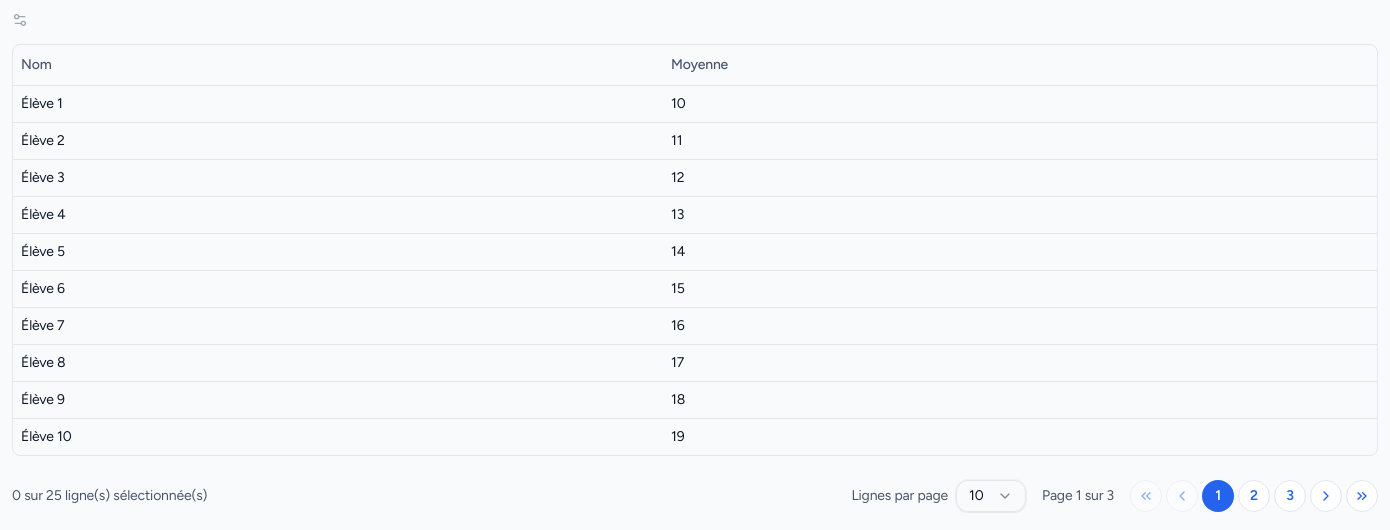
Test case: DataTable › pagine avec les boutons et les numéros de page (petit nombre de pages)
Expected: the text "Élève 1" is shown, [13,85,663,122]
Expected: the text "Page 1 sur 3" is shown, [1042,486,1114,506]
Click the button named "Page suivante". click: (1326, 496)
box: [1310,480,1342,512]
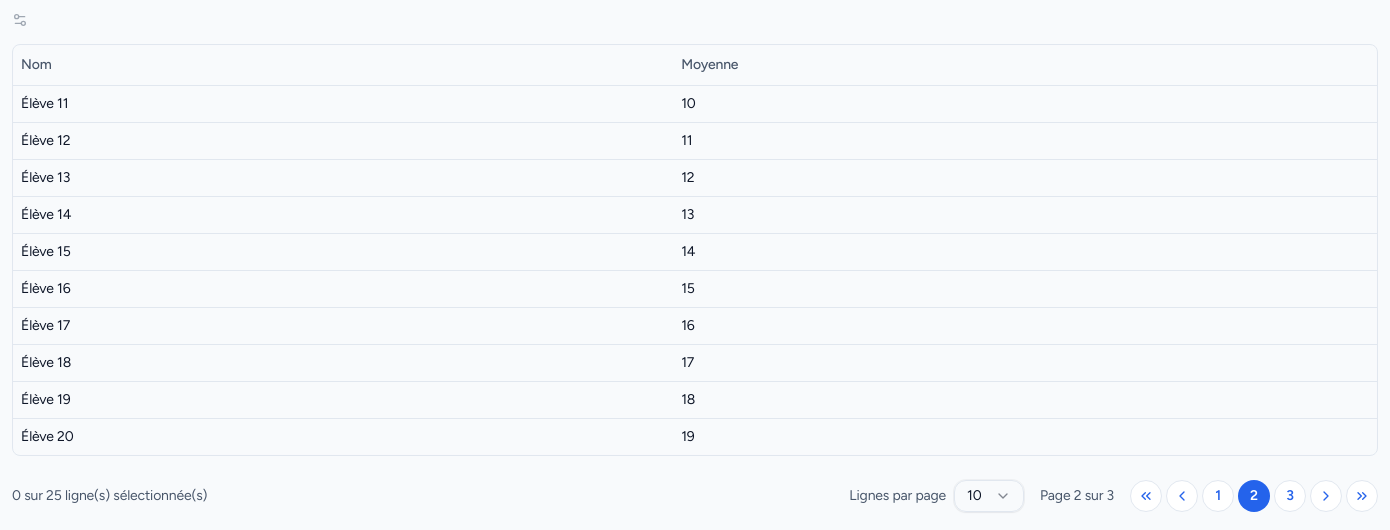
Result: the text "Page 2 sur 3" is shown at [1040,486,1114,506]
Result: the text "Élève 11" is shown at [13,85,673,122]
Click the button named "Dernière page". click: (1362, 496)
box: [1346,480,1378,512]
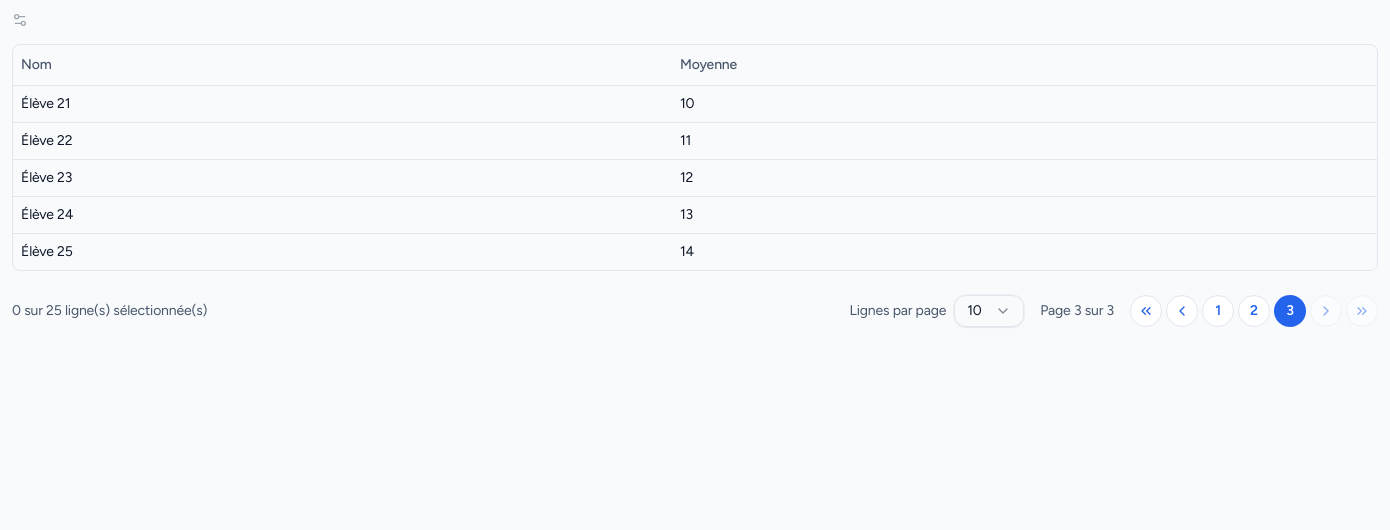
Result: the text "Page 3 sur 3" is shown at [1040,300,1114,320]
Result: the button named "Page suivante" is disabled at [1310,294,1342,326]
Click the button named "Page précédente". click: (1182, 310)
box: [1166,294,1198,326]
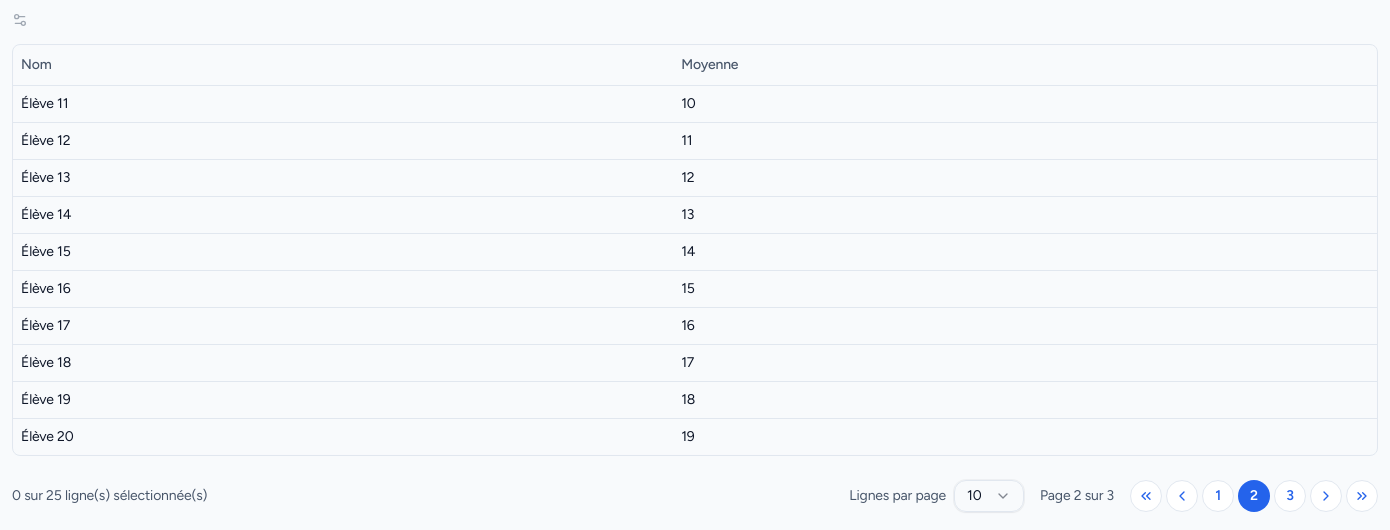
Result: the text "Page 2 sur 3" is shown at [1040,486,1114,506]
Click the button named "Première page". click: (1146, 496)
box: [1130,480,1162,512]
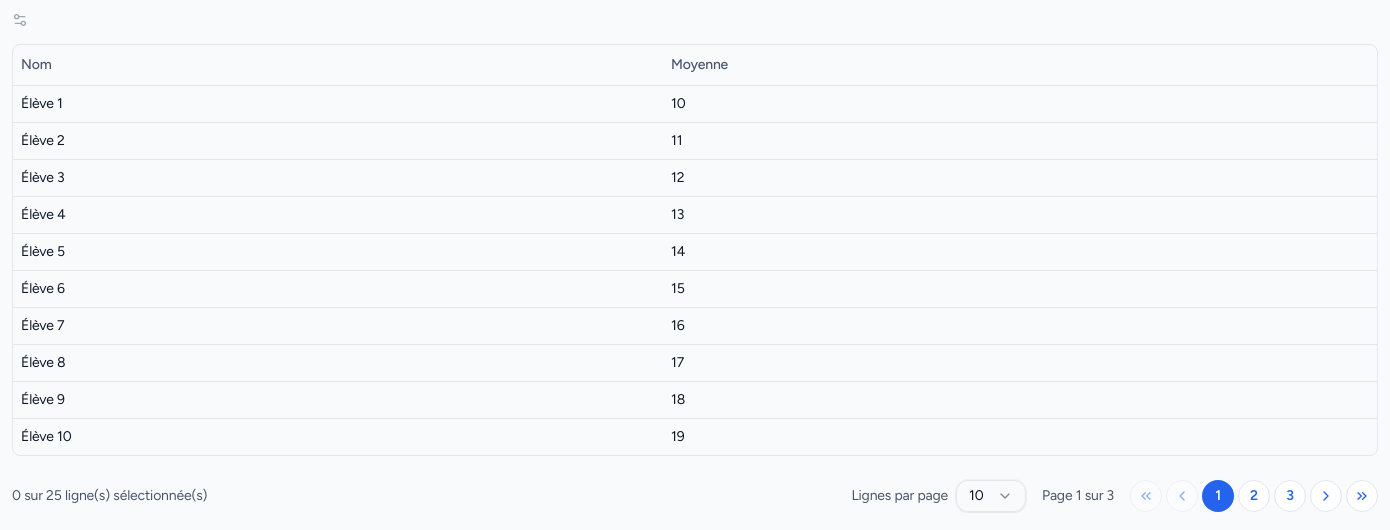
Result: the text "Page 1 sur 3" is shown at [1042,486,1114,506]
Click the button "3". click: (1290, 496)
box: [1274,480,1306,512]
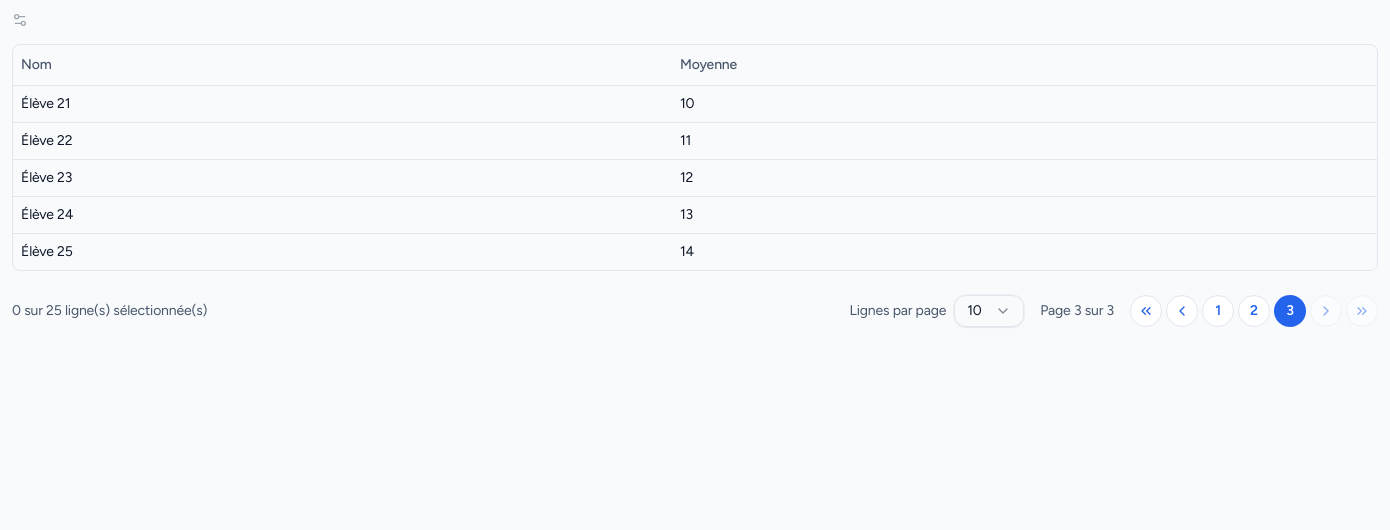
Result: the text "Page 3 sur 3" is shown at [1040,300,1114,320]
